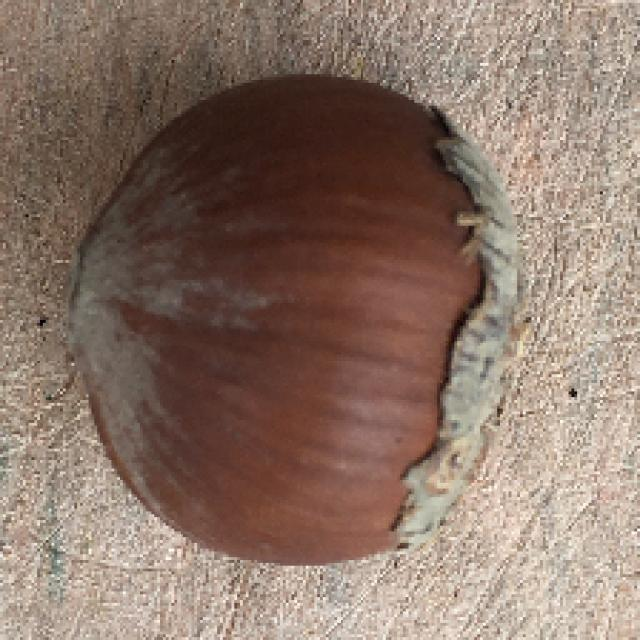DamagedHazelnut: (70, 79, 524, 557)
